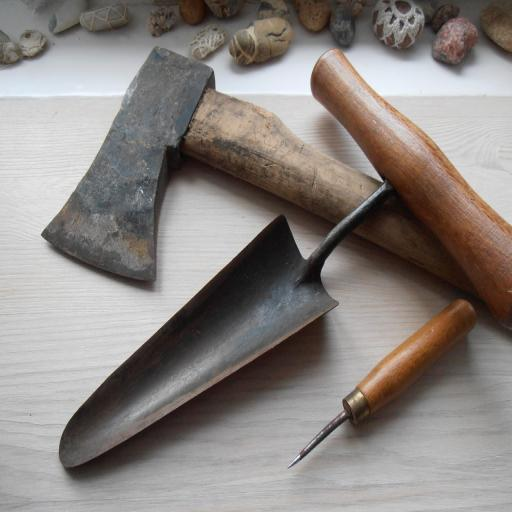Axe: (39, 39, 483, 293)
